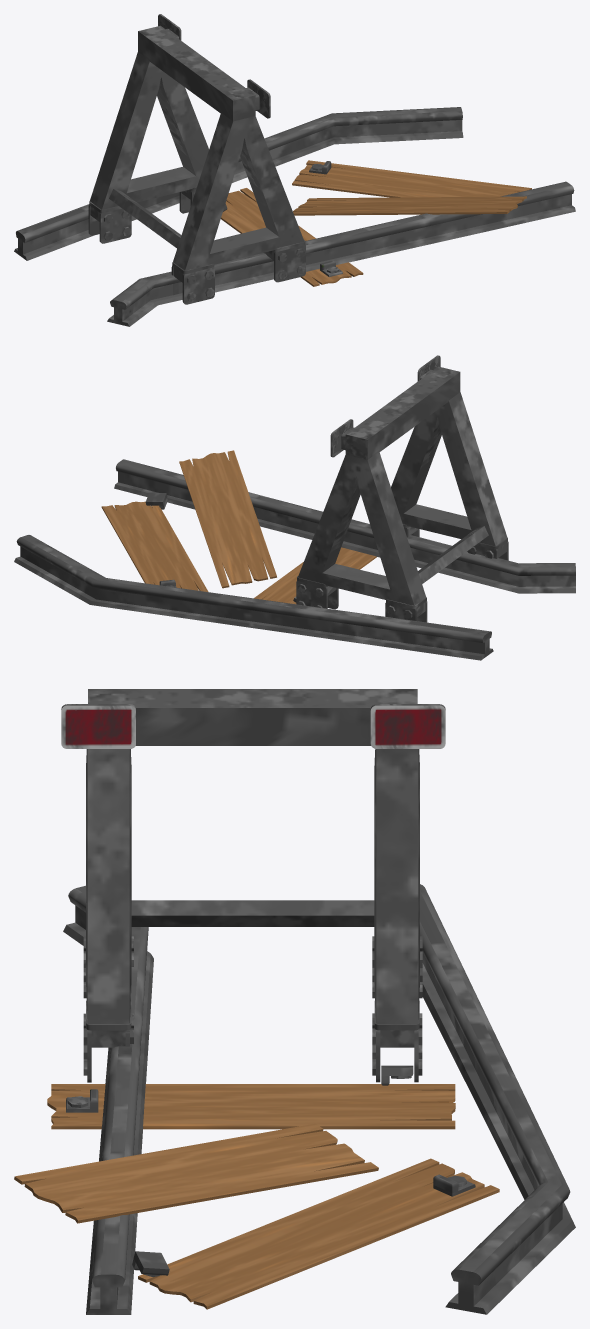
File: Torn up rails.fbx
3 renders of one model, top to bottom at view 1: azimuth 30°, elevation 25°; view 2: azimuth 150°, elevation 25°; view 3: azimuth 270°, elevation 25°, orthographic. The views are drawn at different scales.
Visible parts, largest first — view 1: Full_Track_piece; view 2: Full_Track_piece; view 3: Full_Track_piece.
Part boxes in pixels (box(x1,y1,x2,y2)): Full_Track_piece: box(14, 14, 575, 326); Full_Track_piece: box(14, 355, 575, 660); Full_Track_piece: box(14, 689, 575, 1314).
Size of the model in its own units: 352 by 148 by 213.
Materials: 1 (1 with a texture image).
